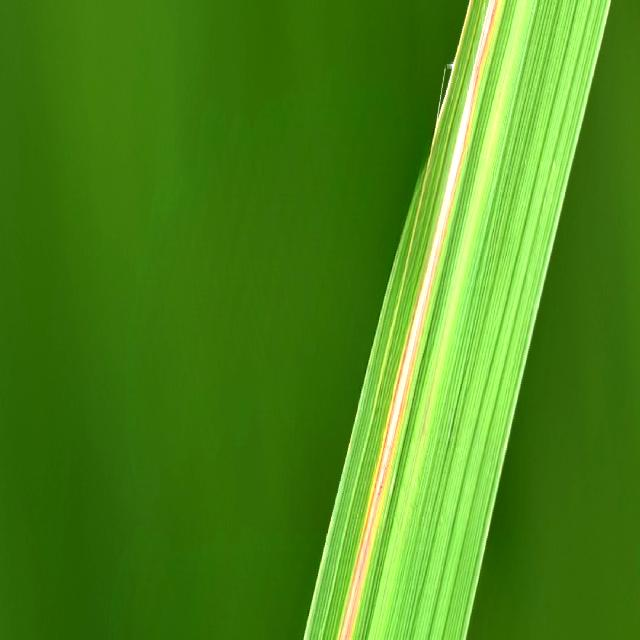BLB: (336, 0, 500, 640)
